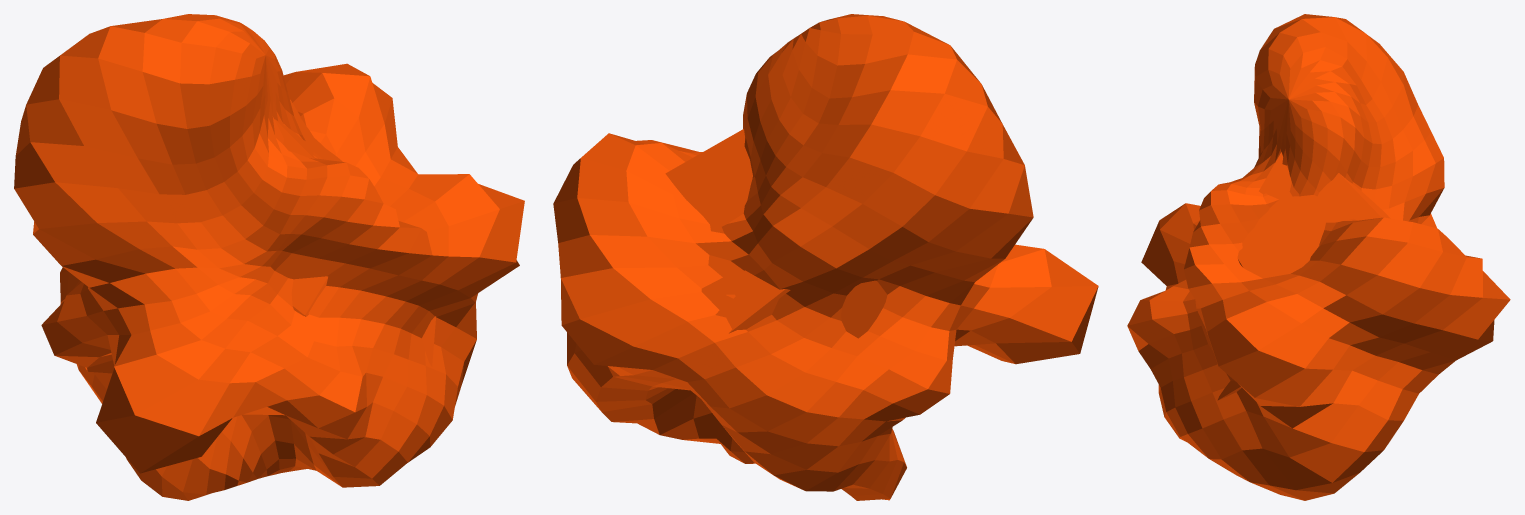
Rendered from Coral 2 naranjo.fbx.
The picture shows the model from 3 angles, left to right: view 1: azimuth 30°, elevation 25°; view 2: azimuth 150°, elevation 25°; view 3: azimuth 270°, elevation 25°; orthographic projection. The views are drawn at different scales.
Parts seen in each view (by area): view 1: Cube.001; view 2: Cube.001; view 3: Cube.001.
Part boxes in pixels (bbox=[...]): Cube.001: bbox=[14, 14, 524, 500]; Cube.001: bbox=[553, 14, 1098, 500]; Cube.001: bbox=[1127, 14, 1510, 500].
Size of the model in its own units: 273 by 267 by 239.
